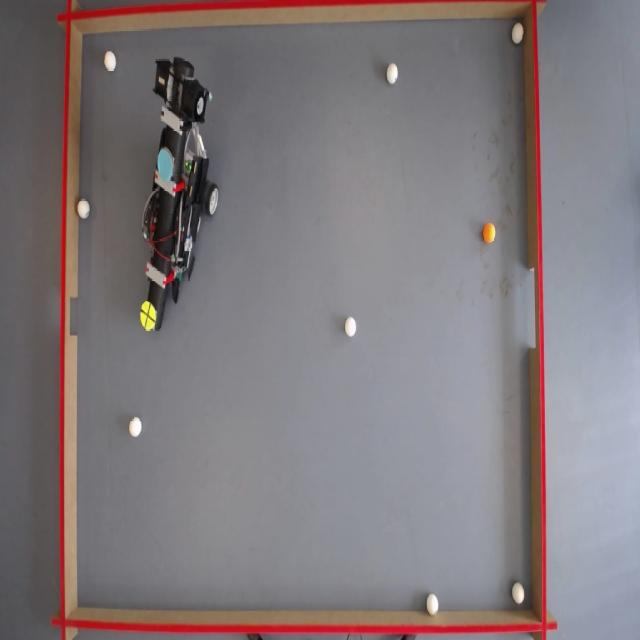orange: (483, 223, 497, 243)
robot: (132, 64, 217, 333)
robot-front: (140, 302, 156, 333)
robot-rear: (157, 150, 176, 183)
white: (513, 584, 527, 606), (512, 24, 526, 46), (426, 593, 440, 615), (130, 417, 143, 439), (77, 199, 90, 220), (104, 52, 117, 73), (386, 64, 399, 85), (346, 316, 358, 338)
